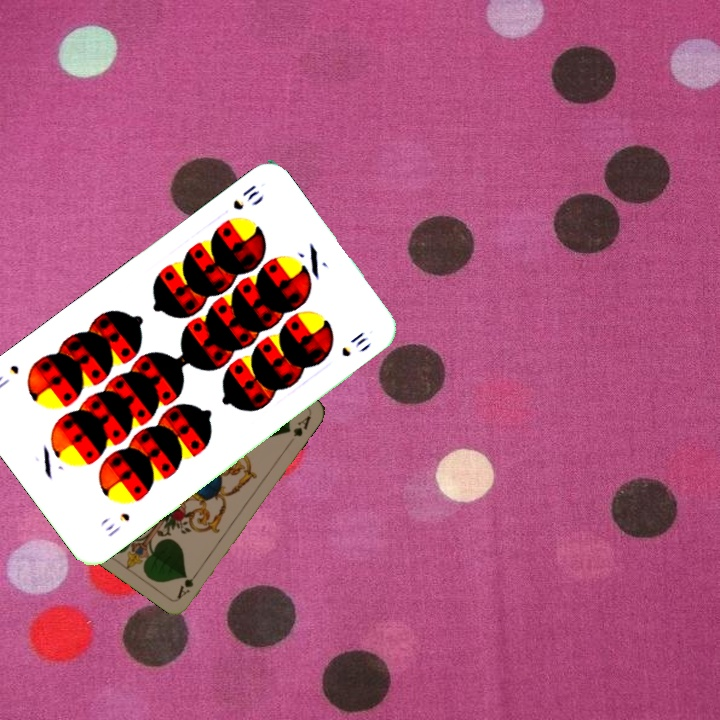GA: (173, 565, 202, 601)
S10: (228, 180, 262, 213), (101, 508, 133, 540)
